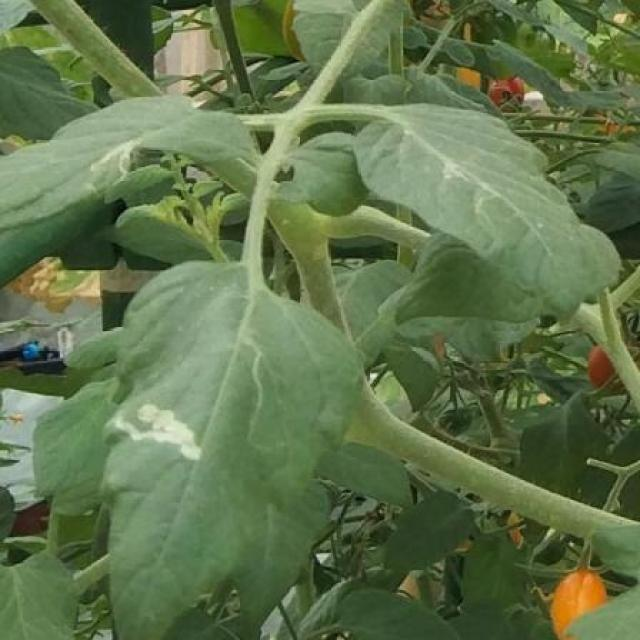Leaf Miner: (96, 262, 366, 639)
